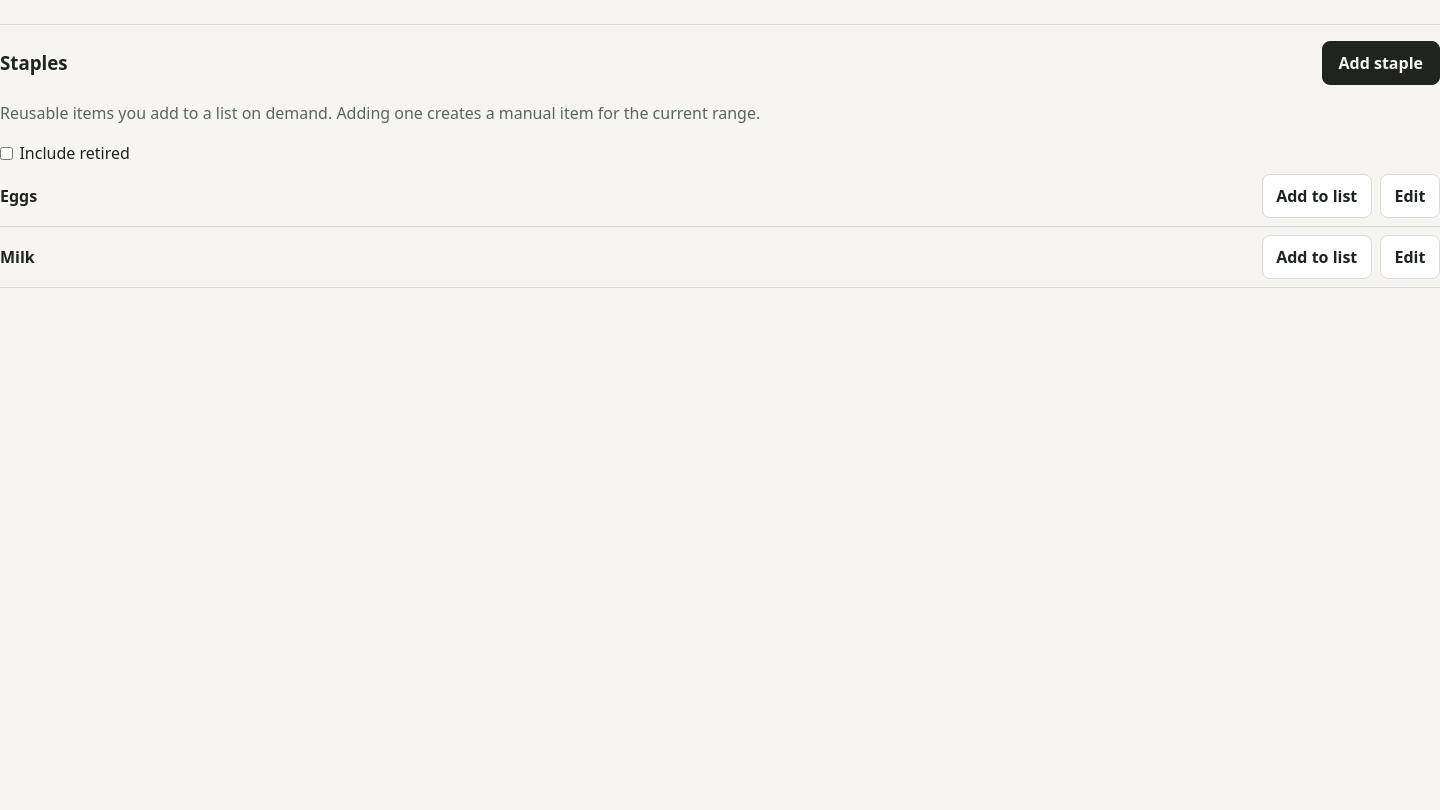
staples panel › shows a visible error when retiring a staple fails
Click the button with aria-label "Edit Eggs": [1410, 196] box 1380,174 -> 1439,218
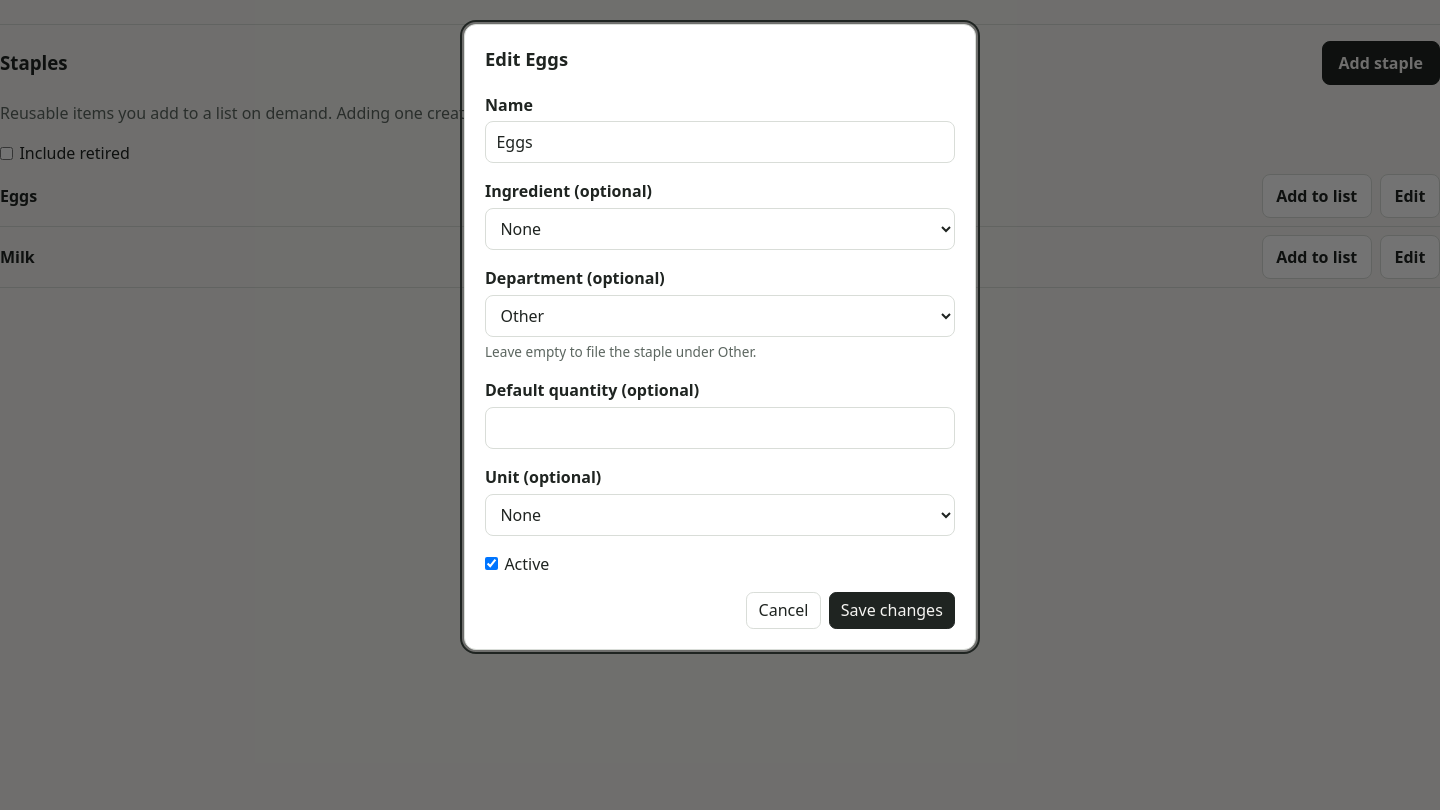
Click the checkbox labelled "Active": [492, 564] box 485,557 -> 498,570
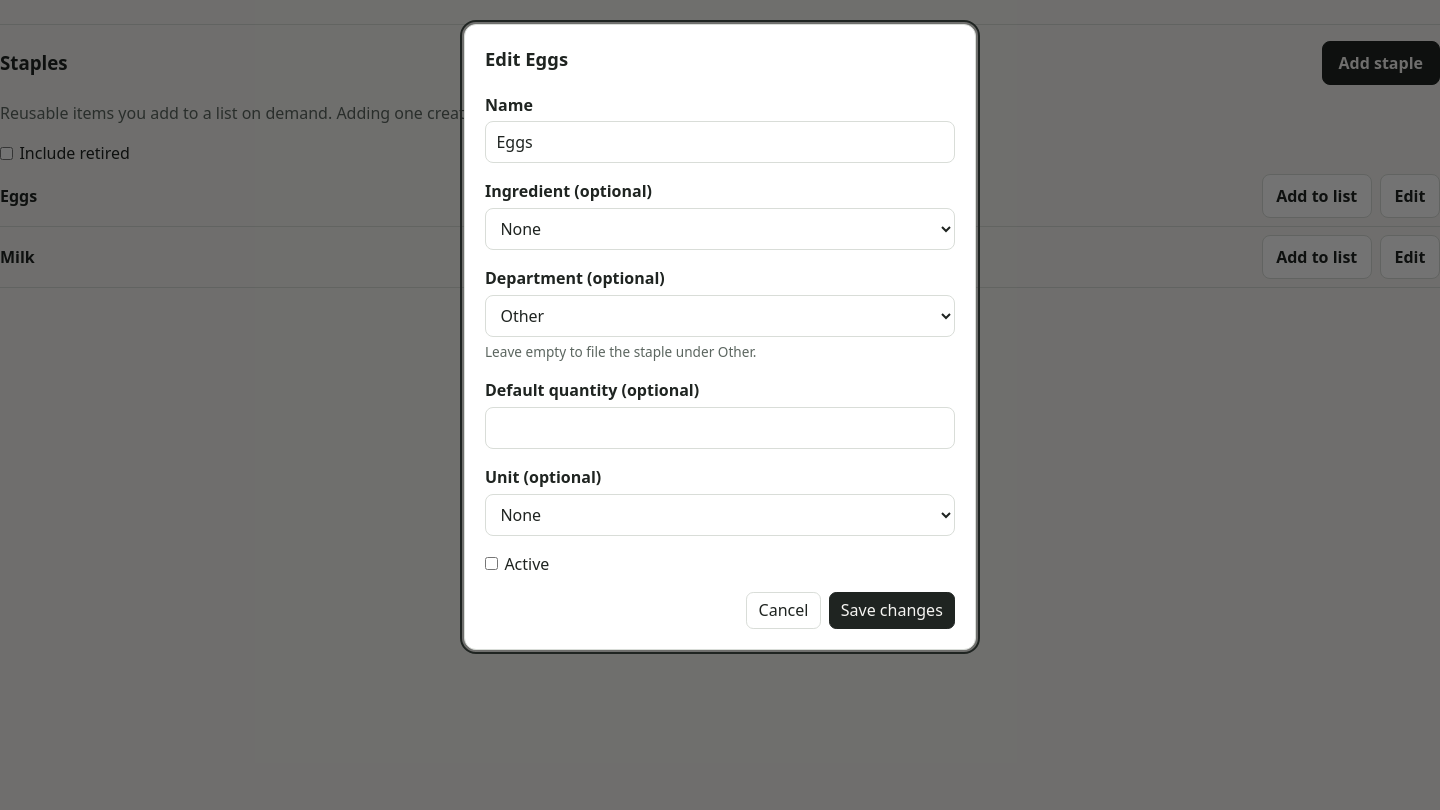
Click the button "Save changes": [892, 610] box 829,592 -> 955,629
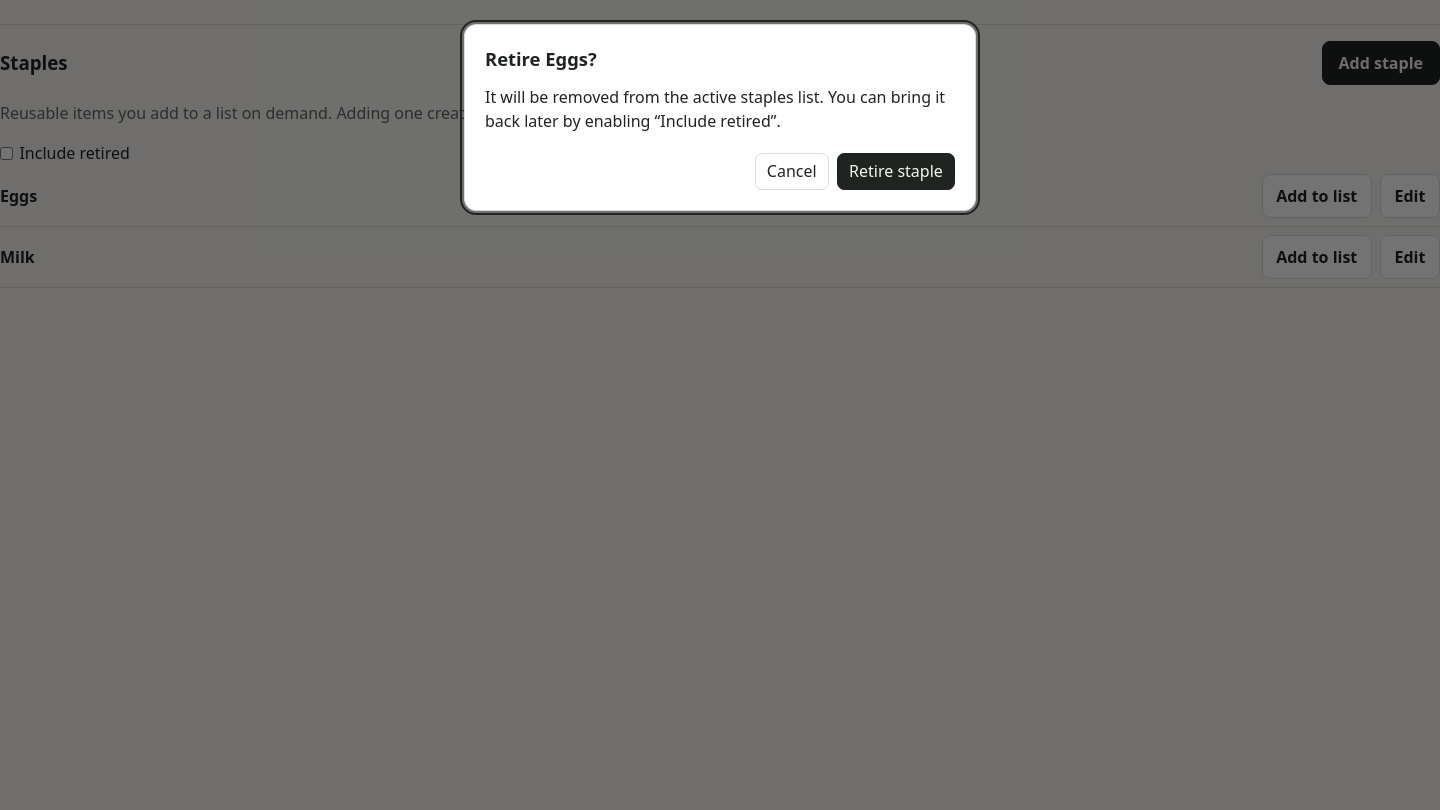
Click the button "Retire staple": [896, 171] box 837,153 -> 955,190
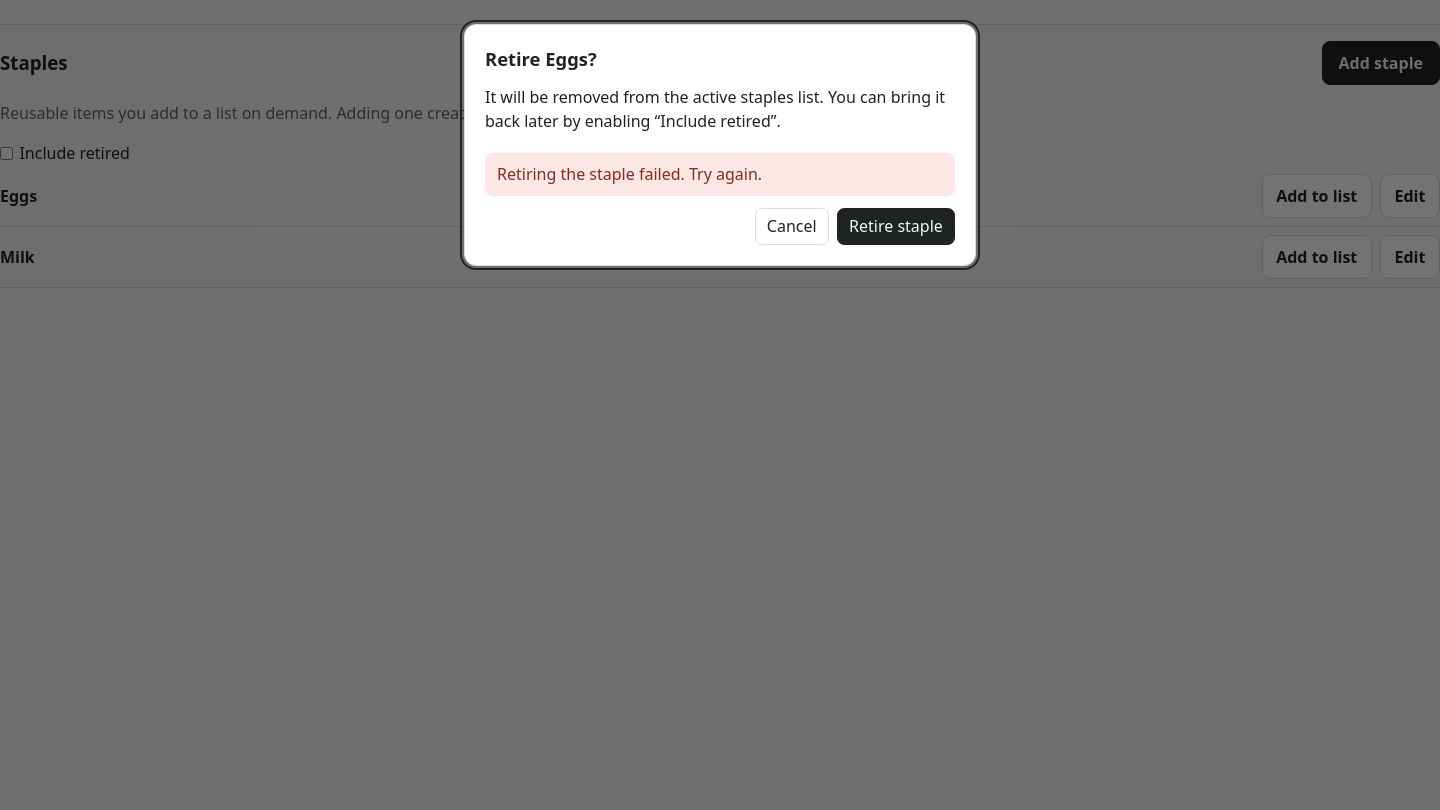
Expected: the button with aria-label "Edit Eggs" is shown, 1380,174 -> 1439,218
Result: the text "Retiring the staple failed. Try again." is shown at 485,153 -> 955,196
